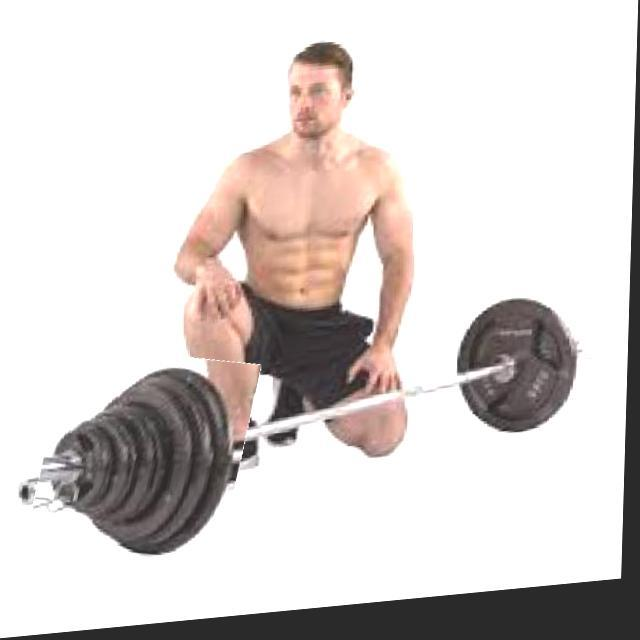barbell: (37, 342, 257, 579)
